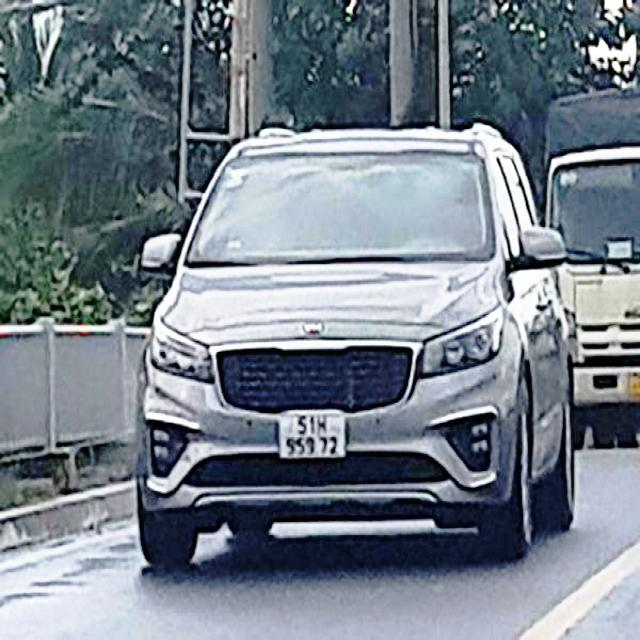license_plate: (280, 412, 346, 458)
